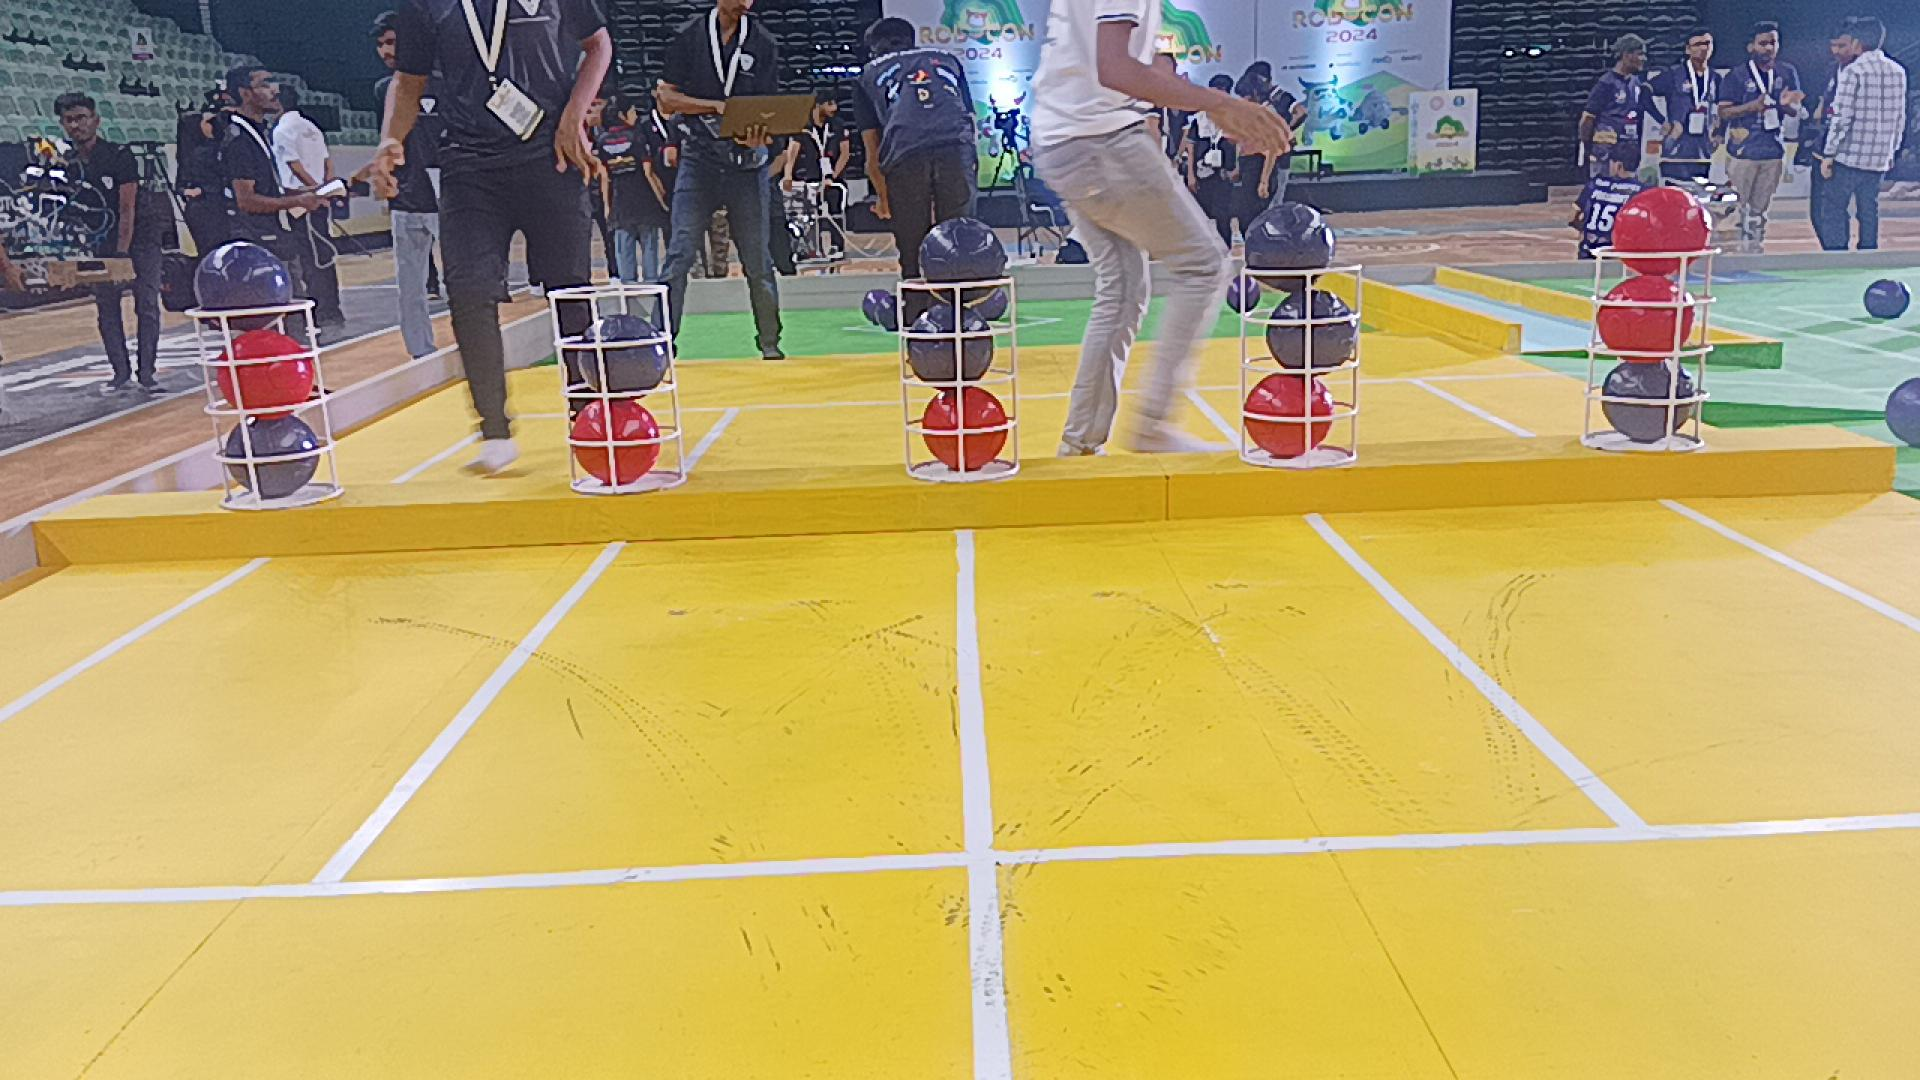dhoka: (195, 240, 293, 330), (222, 417, 319, 498), (1245, 203, 1335, 290), (1601, 360, 1695, 443), (919, 218, 1009, 302), (1267, 289, 1357, 372), (578, 315, 667, 394), (911, 307, 994, 382)
laale: (1613, 187, 1710, 274), (570, 397, 659, 484), (1597, 274, 1692, 356), (218, 330, 315, 409), (1245, 375, 1332, 458), (923, 390, 1009, 471)
